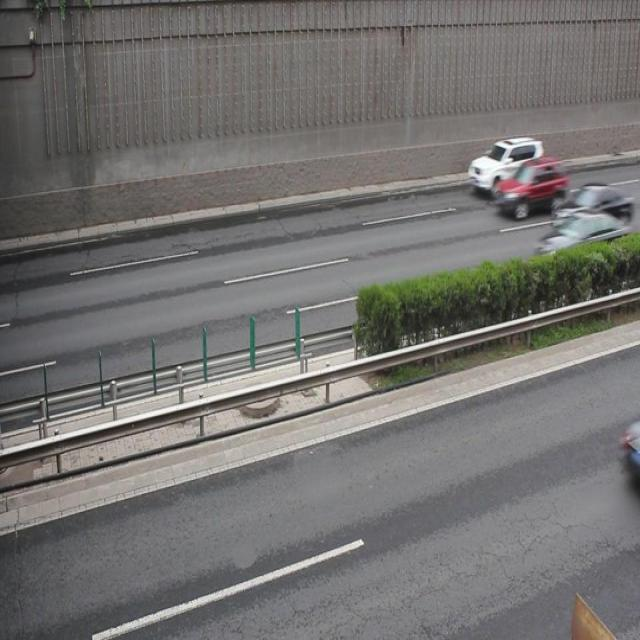car: (534, 213, 631, 265), (467, 138, 543, 195), (497, 159, 562, 214), (552, 182, 628, 229)
